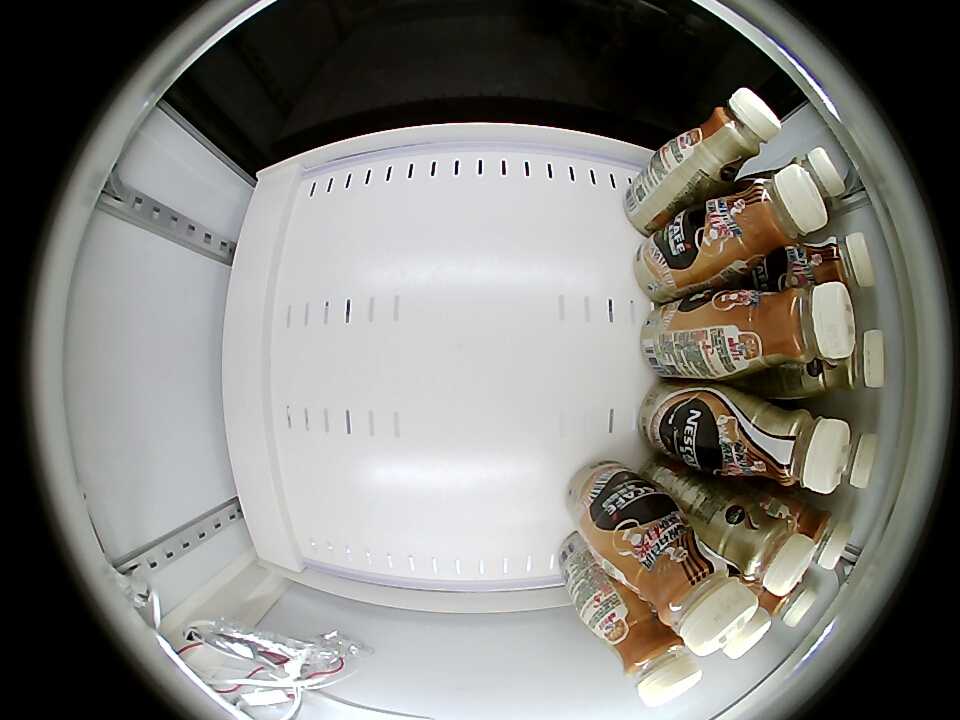kafei: (615, 506, 759, 656), (703, 165, 829, 276), (724, 393, 851, 494), (705, 490, 815, 596), (739, 281, 856, 368), (684, 87, 782, 187), (609, 612, 701, 707), (789, 233, 875, 297), (798, 328, 885, 391), (792, 502, 852, 571), (825, 420, 878, 491), (785, 147, 847, 206), (753, 574, 818, 627), (722, 605, 772, 659)
